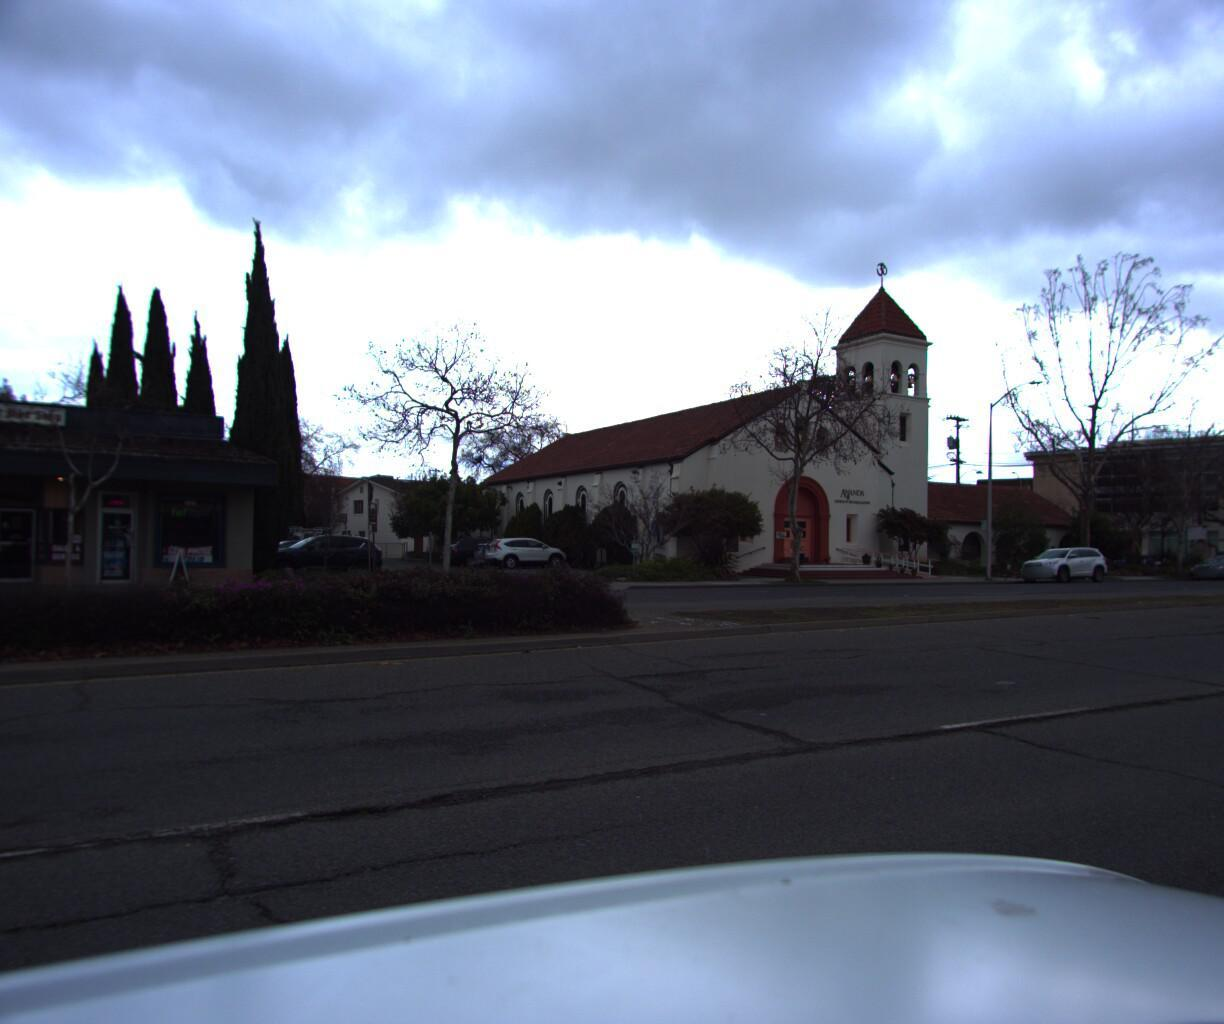car: (250, 526, 391, 580), (1008, 539, 1113, 579), (1175, 547, 1224, 578)
